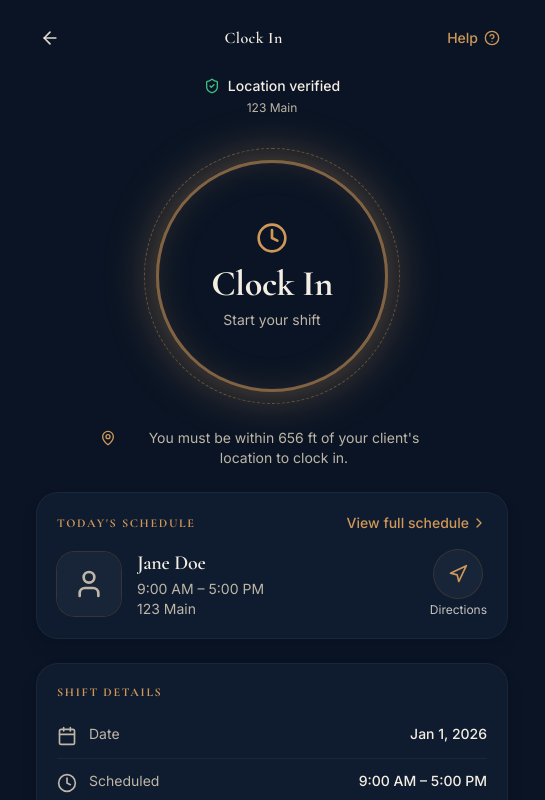
Test case: Caregiver clock-in / clock-out flow › blocks clock-in when GPS accuracy is below the threshold
What coordinates should you click on to do the following:
click the button "Clock In Start your shift"
I would click on:
 (272, 276)
Its box is [144,148,400,404].
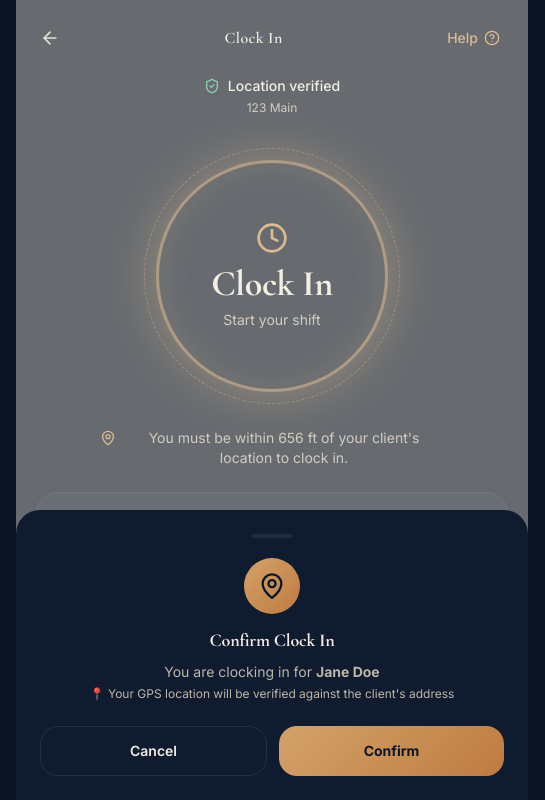
What coordinates should you click on to do the following:
click the button "Confirm"
I would click on:
 (392, 751)
Its box is [279,726,504,776].
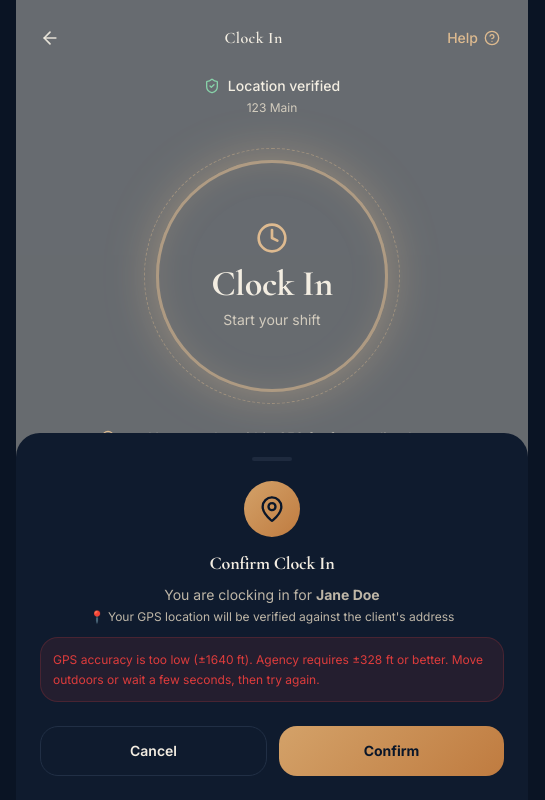
Expected: the text "GPS accuracy is too low" below "Location Verification Failed" is shown, [81,535,476,570]
